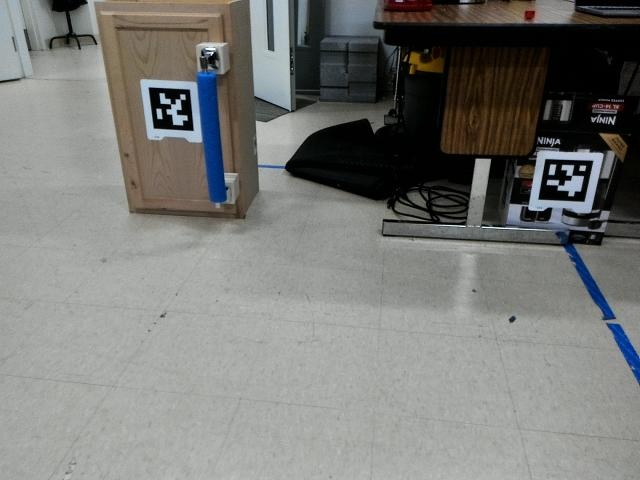noodle_handle: (190, 66, 233, 205)
